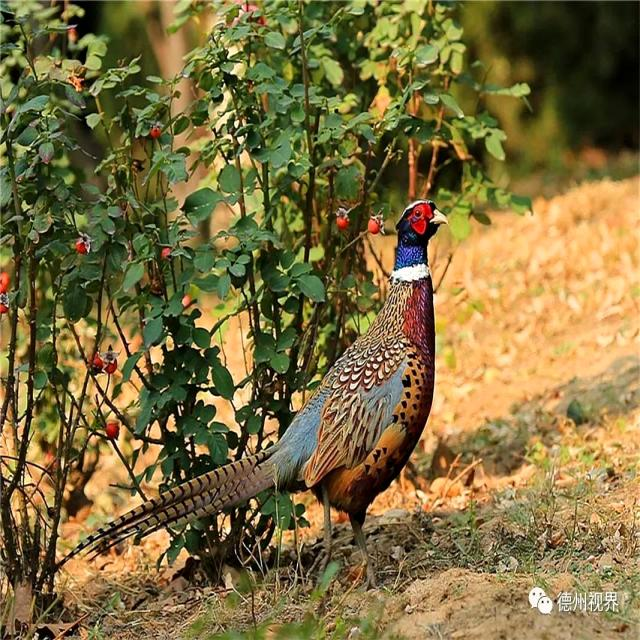Phasianus Colchicus: (53, 446, 275, 572)
